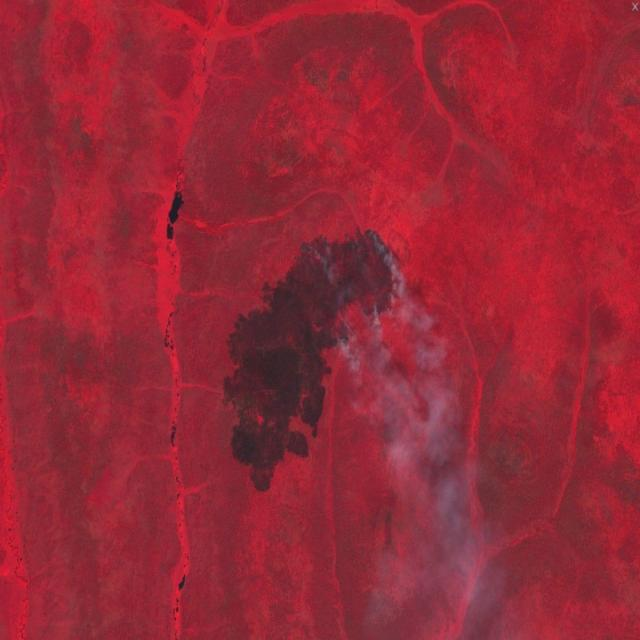fire: (362, 212, 424, 311), (322, 295, 412, 362), (300, 222, 336, 281)
